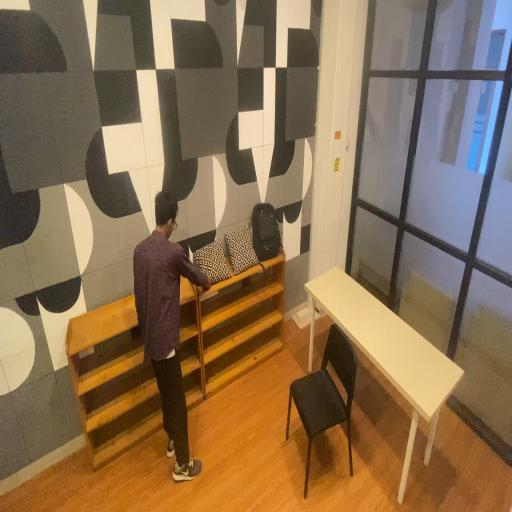bantal: (223, 219, 263, 280), (192, 234, 232, 292)
kursi: (287, 316, 358, 504)
lemari: (57, 259, 208, 483), (185, 225, 284, 405)
meja: (300, 255, 466, 507)
tas ransel: (250, 195, 285, 266)
